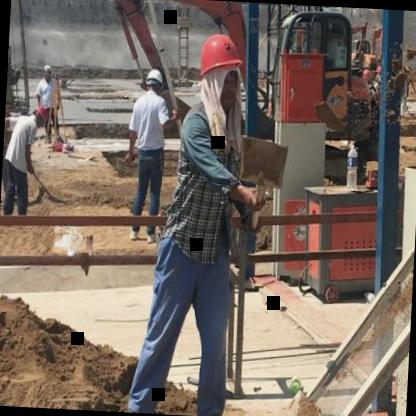helmet: (195, 30, 242, 111), (144, 67, 165, 95), (30, 102, 48, 128), (42, 62, 52, 86), (4, 98, 10, 124)
